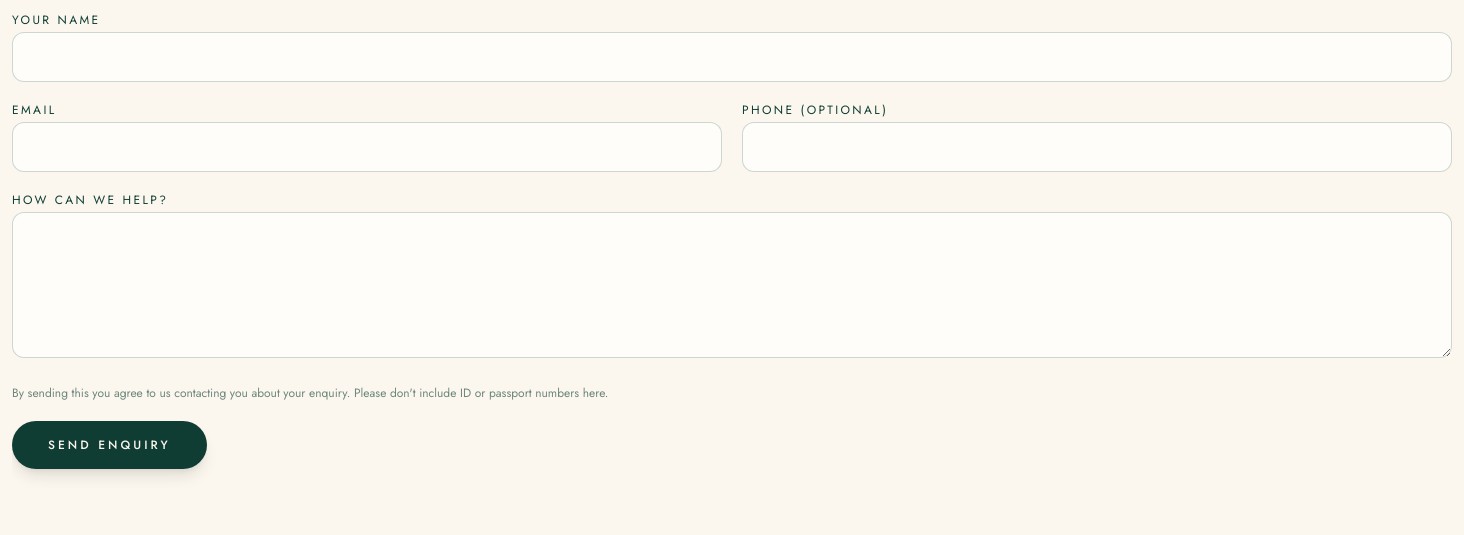
Scenario: shows the server error when sending fails
The image size is (1464, 535).
Step 1. Type "Jane Doe" into the field labelled "Your name" → [732, 57], box [12,32,1452,82]
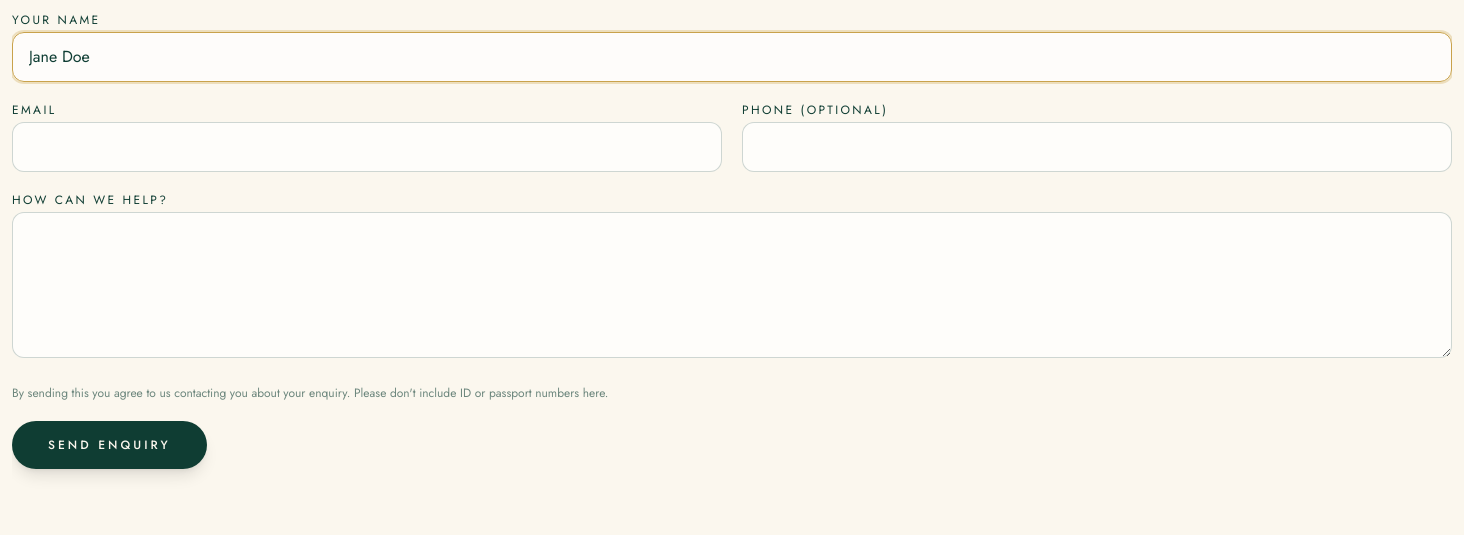
Step 2. Type "jane@example.com" into the field labelled "Email" → [367, 147], box [12,122,722,172]
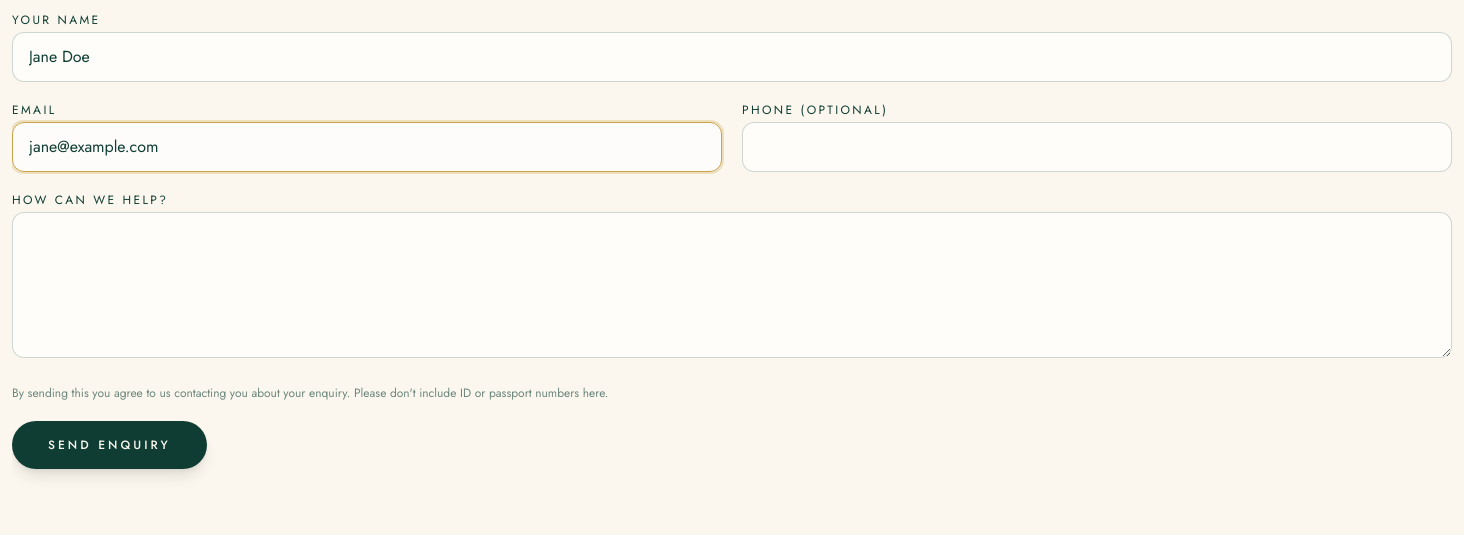
Step 3. Type "I would like to book flights." into the text box labelled "How can we help?" → [732, 285], box [12,212,1452,358]
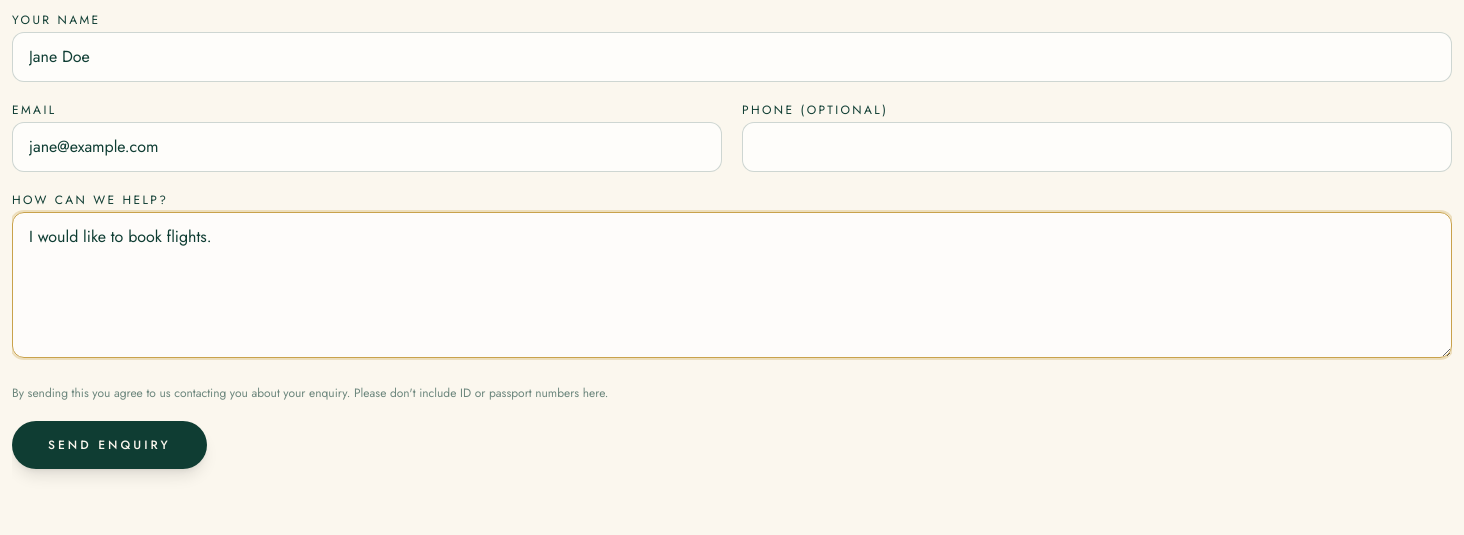
Step 4. Click the button "Send enquiry" → [109, 445], box [12,421,207,469]
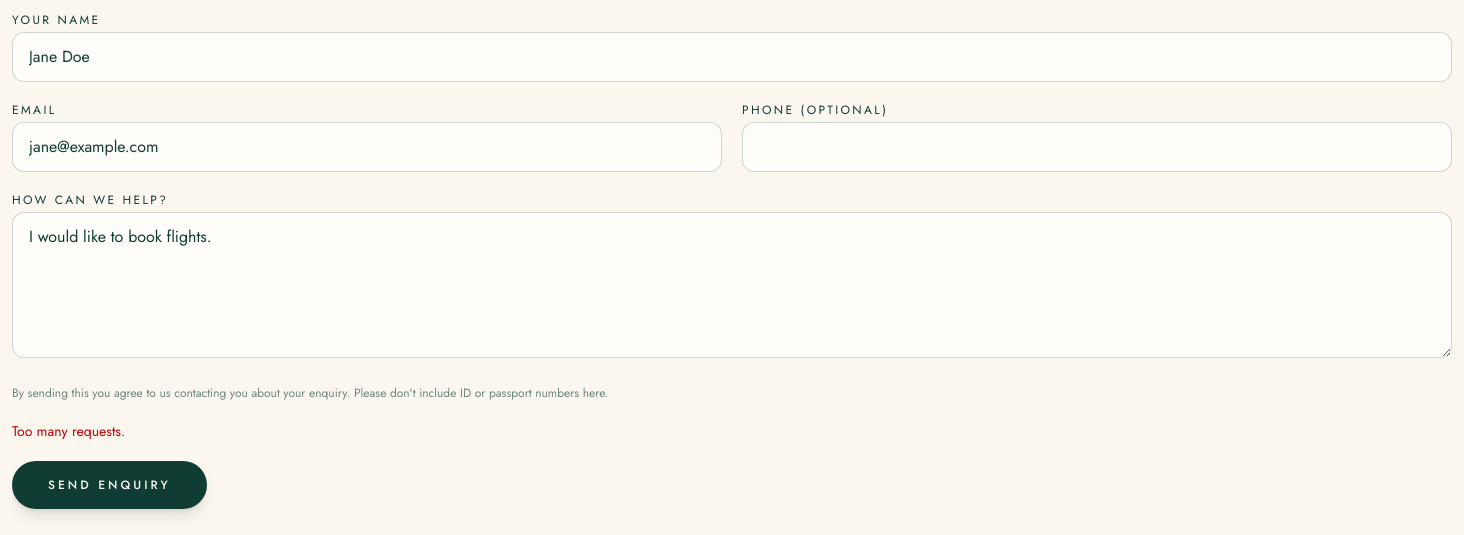
Now the message "Too many requests." is shown, box [12,421,125,441]
